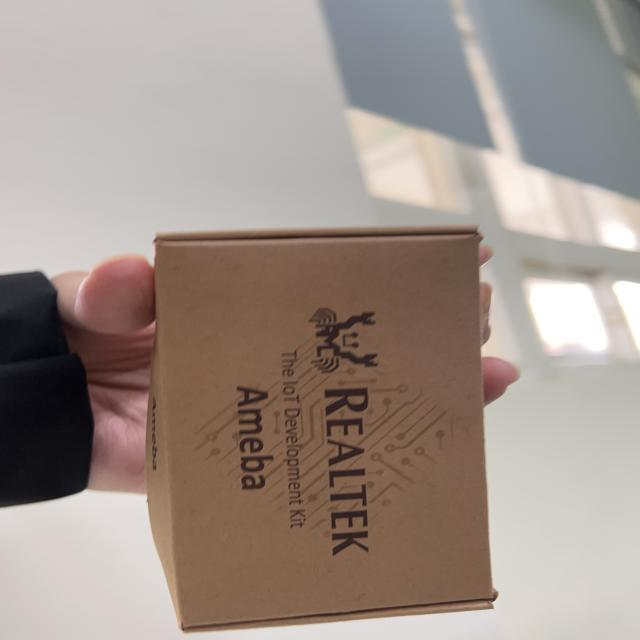box: (126, 216, 513, 640)
